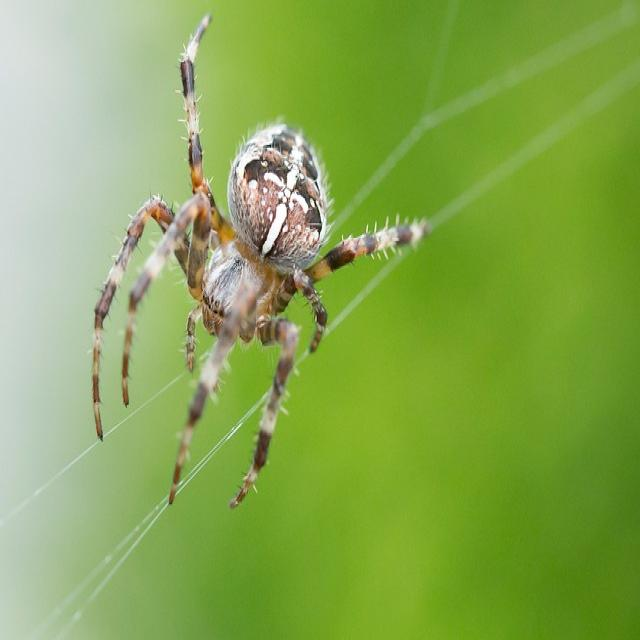spyder: (92, 15, 421, 510)
